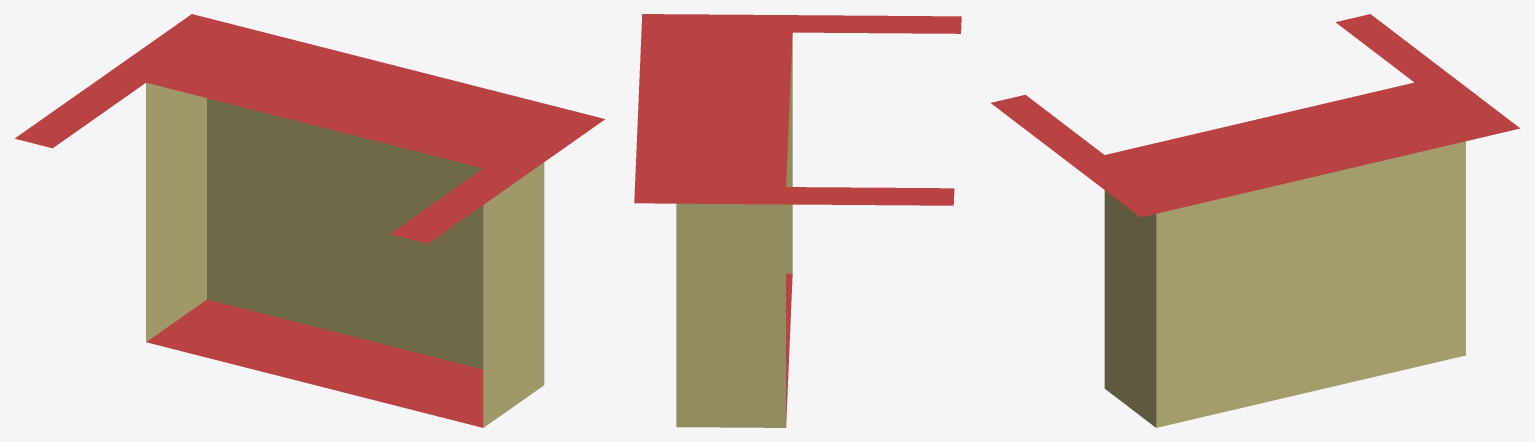
3 views of the same model, side by side, from view 1: azimuth 30°, elevation 25°; view 2: azimuth 150°, elevation 25°; view 3: azimuth 270°, elevation 25° (orthographic). The views are drawn at different scales.
Size of the model in its own units: 12 by 13.22 by 6.43.
